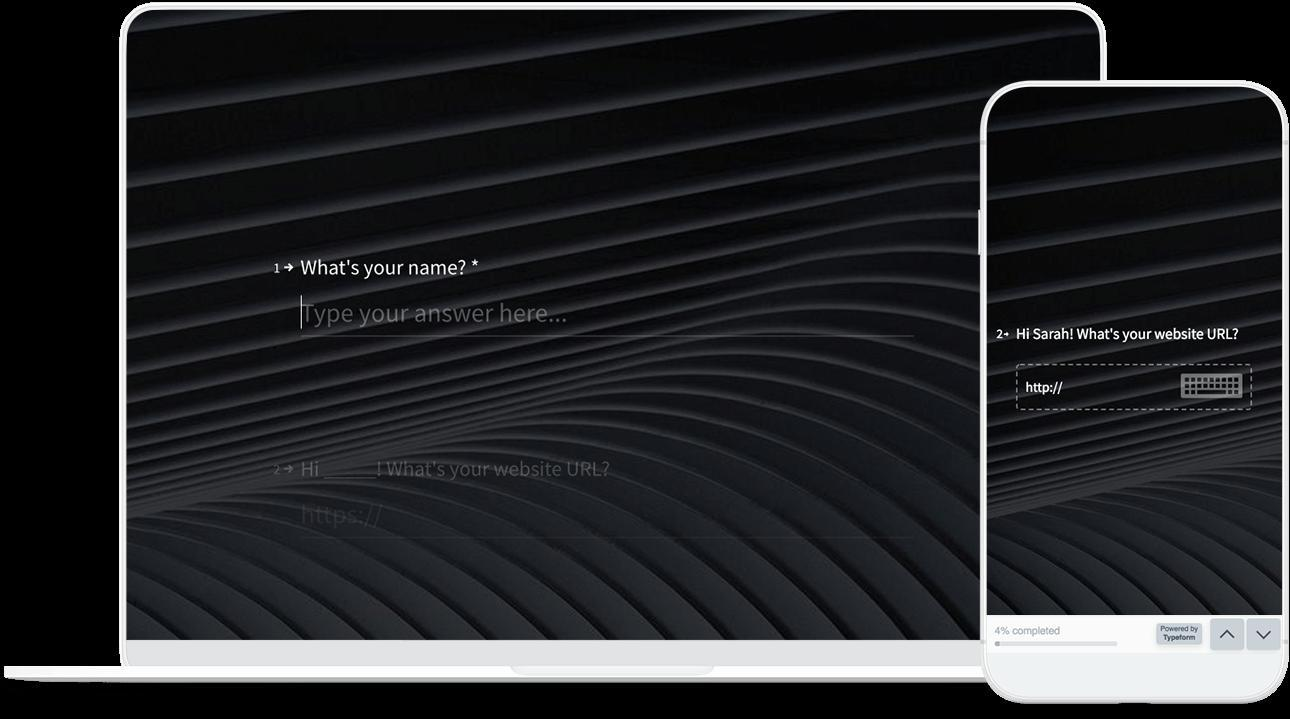icon: (1247, 619, 1284, 651), (1212, 619, 1245, 651)
input: (287, 289, 918, 344), (1017, 363, 1252, 415)
label: (991, 316, 1244, 350), (270, 246, 483, 285)
